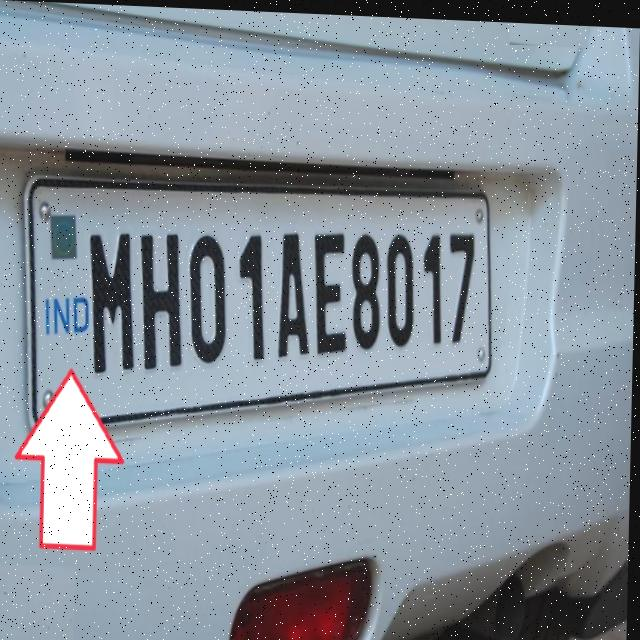plate: (17, 164, 498, 441)
